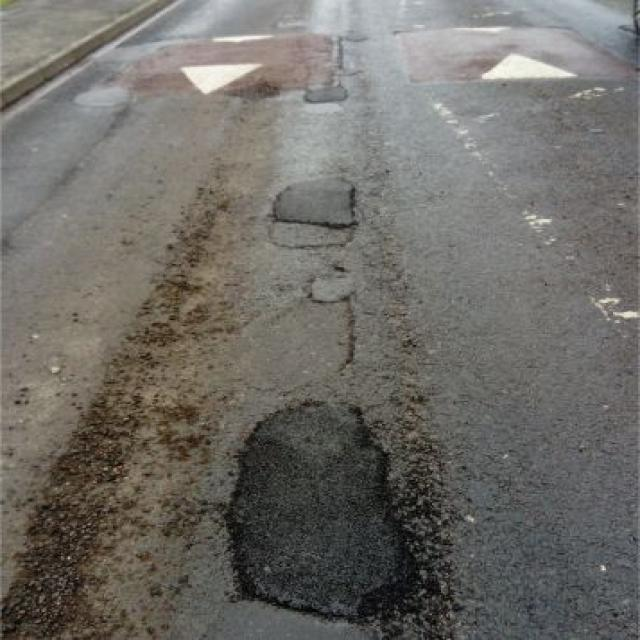pothole: (218, 390, 436, 629), (262, 174, 364, 227)
